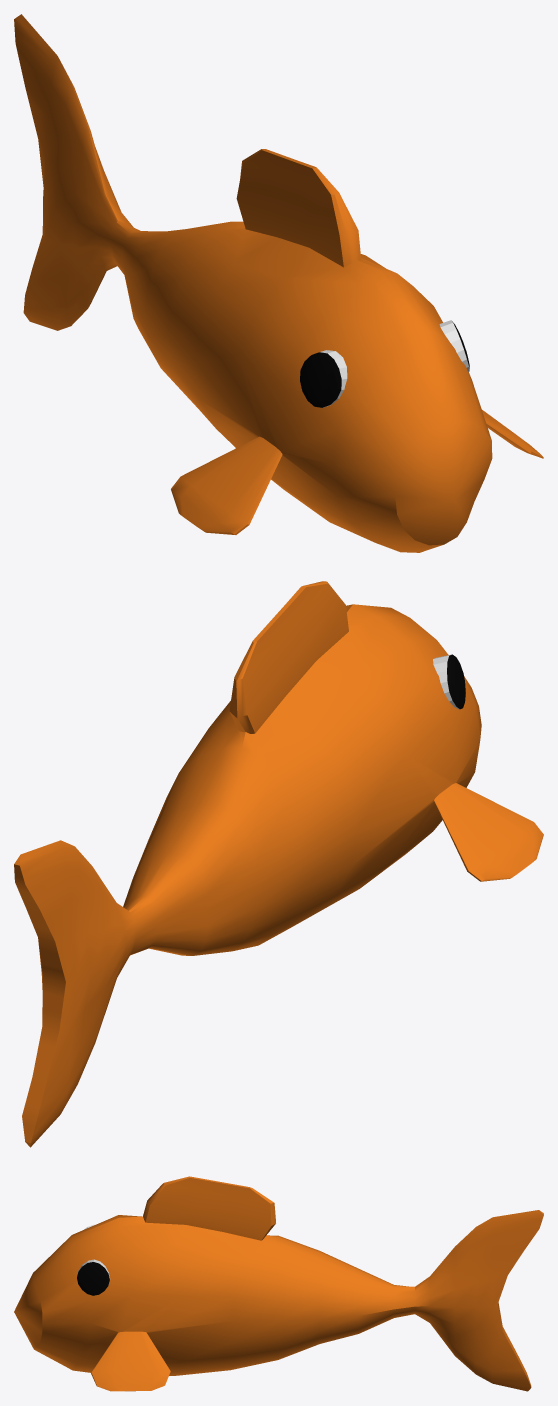
The model's file is fish.fbx.
The picture shows the model from 3 angles, top to bottom: view 1: azimuth 30°, elevation 25°; view 2: azimuth 150°, elevation 25°; view 3: azimuth 270°, elevation 25°; orthographic projection. The views are drawn at different scales.
Parts seen in each view (by area): view 1: fish low poly; view 2: fish low poly; view 3: fish low poly.
Boxes of the visible parts, left/top/right/bottom form: fish low poly: left=14, top=14, right=543, bottom=552; fish low poly: left=14, top=581, right=543, bottom=1147; fish low poly: left=14, top=1176, right=543, bottom=1391.
Size of the model in its own units: 40.89 by 41.95 by 93.19.
